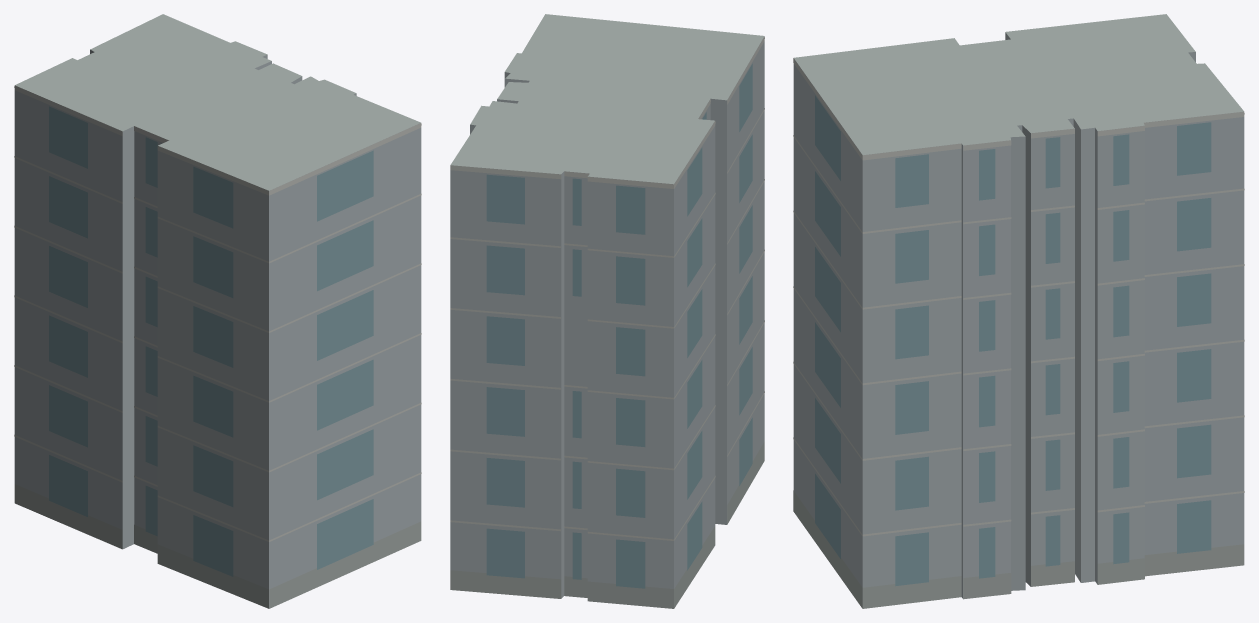
The model's file is survey-upis-32786394.glb.
The picture shows the model from 3 angles, left to right: view 1: azimuth 30°, elevation 25°; view 2: azimuth 150°, elevation 25°; view 3: azimuth 270°, elevation 25°; orthographic projection. The views are drawn at different scales.
Parts seen in each view (by area): view 1: survey-upis-32786394.tmp; view 2: survey-upis-32786394.tmp; view 3: survey-upis-32786394.tmp.
Boxes of the visible parts, box(x1,y1,x2,y2) form: survey-upis-32786394.tmp: box(14, 14, 421, 608); survey-upis-32786394.tmp: box(450, 14, 764, 608); survey-upis-32786394.tmp: box(793, 14, 1244, 608).
Size of the model in its own units: 14.04 by 21 by 18.94.
